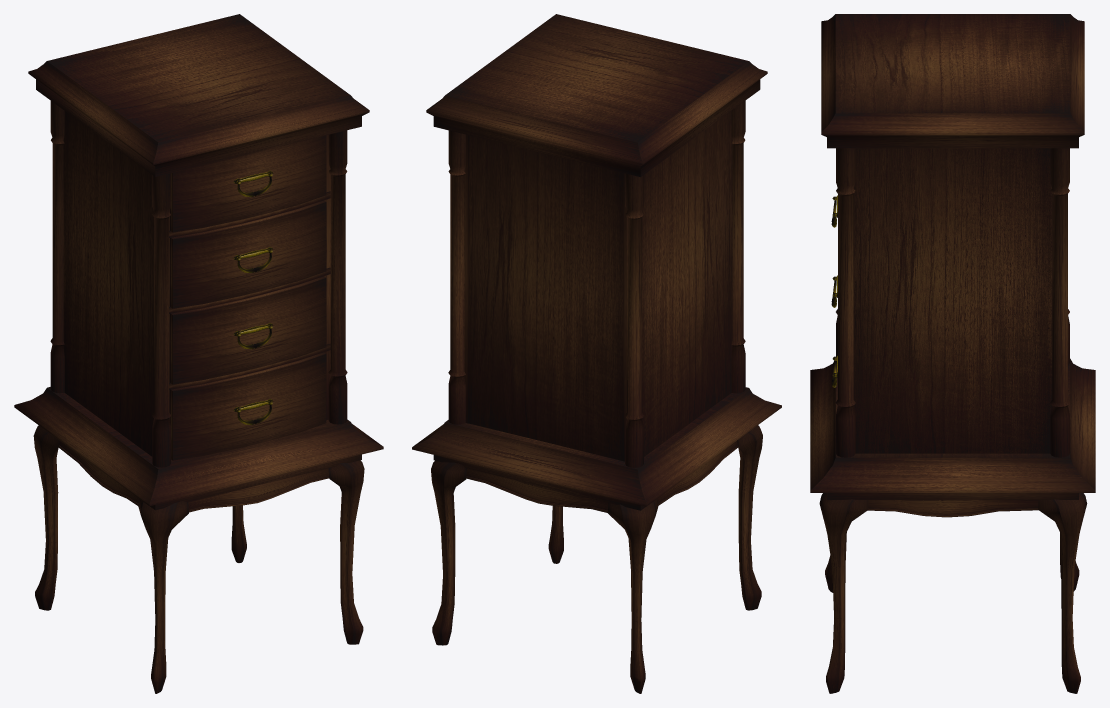
The model's file is chagui2.fbx.
3 renders of one model, left to right at view 1: azimuth 30°, elevation 25°; view 2: azimuth 150°, elevation 25°; view 3: azimuth 270°, elevation 25°, orthographic. The views are drawn at different scales.
Parts seen in each view (by area): view 1: obj1; view 2: obj1; view 3: obj1.
Part boxes in pixels (x1,y1,x2,y2): obj1: [14, 14, 383, 693]; obj1: [412, 14, 781, 693]; obj1: [810, 14, 1095, 693].
Bounding box in the file's own units: 50.74 × 113 × 50.74.
2 materials, 2 textured.
